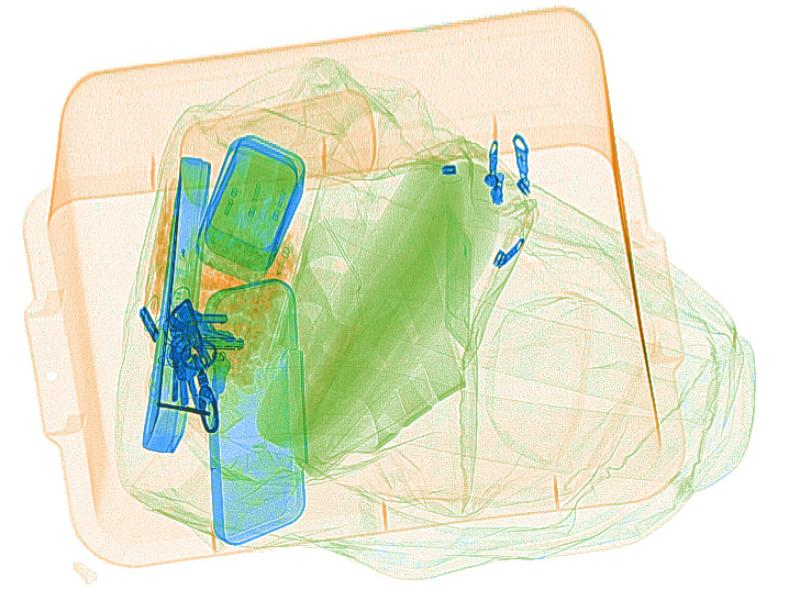plasticBottleWithaNozzle: (261, 146, 312, 239), (241, 136, 278, 243), (204, 168, 248, 256), (257, 225, 304, 281)
